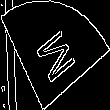M_SW: (30, 23, 80, 87)
